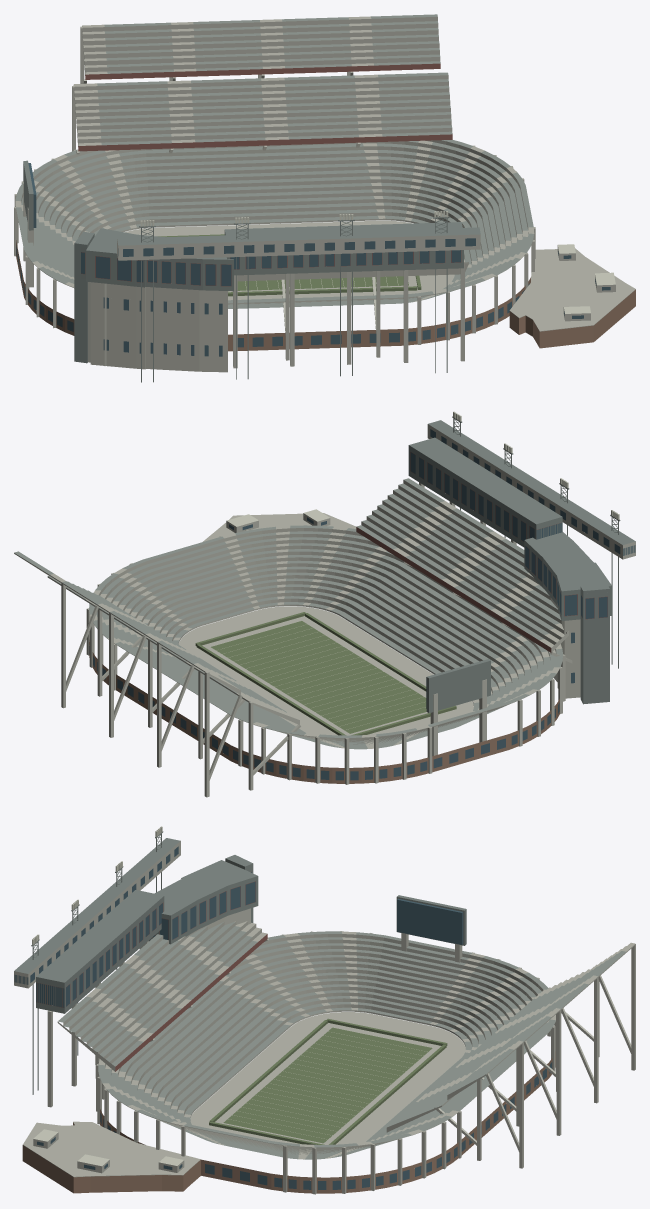
File: sanford-stadium-far.glb
3 renders of one model, top to bottom at view 1: azimuth 30°, elevation 25°; view 2: azimuth 150°, elevation 25°; view 3: azimuth 270°, elevation 25°, orthographic. The views are drawn at different scales.
Parts seen in each view (by area): view 1: sanford-stadium-0-concrete, sanford-stadium-0-seat, sanford-stadium-0-steel, sanford-stadium-0-glass, sanford-stadium-0-brick, sanford-stadium-0-red, sanford-stadium-0-turf, sanford-stadium-0-paint; view 2: sanford-stadium-0-concrete, sanford-stadium-0-seat, sanford-stadium-0-steel, sanford-stadium-0-turf, sanford-stadium-0-glass, sanford-stadium-0-brick, sanford-stadium-0-red, sanford-stadium-0-paint; view 3: sanford-stadium-0-concrete, sanford-stadium-0-seat, sanford-stadium-0-turf, sanford-stadium-0-steel, sanford-stadium-0-glass, sanford-stadium-0-brick, sanford-stadium-0-red, sanford-stadium-0-paint.
Boxes of the visible parts, left/top/right/bottom form: sanford-stadium-0-concrete: left=14, top=16, right=635, bottom=372; sanford-stadium-0-seat: left=15, top=14, right=533, bottom=308; sanford-stadium-0-steel: left=23, top=160, right=480, bottom=382; sanford-stadium-0-glass: left=16, top=163, right=610, bottom=356; sanford-stadium-0-brick: left=16, top=240, right=635, bottom=351; sanford-stadium-0-red: left=78, top=63, right=461, bottom=286; sanford-stadium-0-turf: left=158, top=234, right=421, bottom=296; sanford-stadium-0-paint: left=140, top=211, right=615, bottom=313; sanford-stadium-0-concrete: left=14, top=424, right=635, bottom=797; sanford-stadium-0-seat: left=14, top=478, right=562, bottom=749; sanford-stadium-0-steel: left=408, top=416, right=635, bottom=713; sanford-stadium-0-turf: left=195, top=612, right=456, bottom=735; sanford-stadium-0-glass: left=89, top=429, right=635, bottom=780; sanford-stadium-0-brick: left=89, top=640, right=559, bottom=783; sanford-stadium-0-red: left=356, top=452, right=607, bottom=652; sanford-stadium-0-paint: left=214, top=411, right=619, bottom=732; sanford-stadium-0-concrete: left=14, top=841, right=635, bottom=1194; sanford-stadium-0-seat: left=58, top=922, right=625, bottom=1159; sanford-stadium-0-turf: left=209, top=1018, right=447, bottom=1144; sanford-stadium-0-steel: left=14, top=831, right=466, bottom=1094; sanford-stadium-0-glass: left=14, top=846, right=552, bottom=1189; sanford-stadium-0-brick: left=22, top=1051, right=555, bottom=1193; sanford-stadium-0-red: left=36, top=871, right=267, bottom=1071; sanford-stadium-0-paint: left=32, top=826, right=430, bottom=1166.
Bounding box in the file's own units: 240 × 75 × 272.
